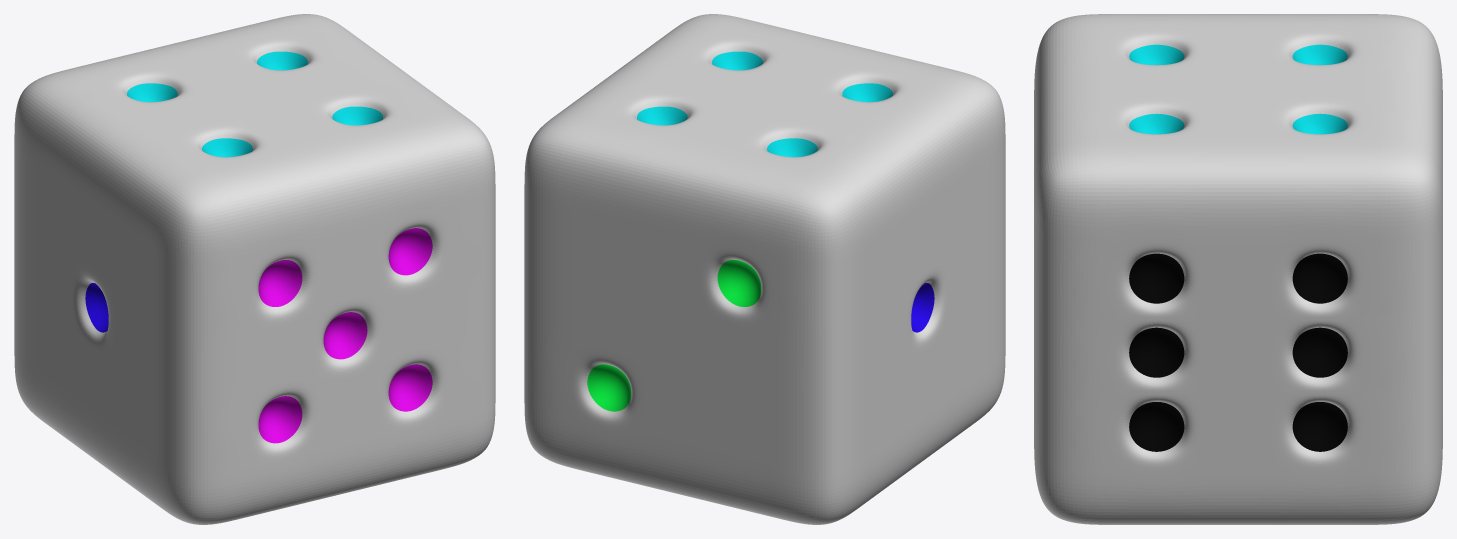
Rendered from dicelegend.FBX.
The picture shows the model from 3 angles, left to right: view 1: azimuth 30°, elevation 25°; view 2: azimuth 150°, elevation 25°; view 3: azimuth 270°, elevation 25°; orthographic projection. The views are drawn at different scales.
Parts seen in each view (by area): view 1: Cube.001; view 2: Cube.001; view 3: Cube.001.
Boxes of the visible parts, x1,y1,x2,y2 form: Cube.001: (14,14,495,524); Cube.001: (524,14,1005,524); Cube.001: (1034,14,1442,524).
Bounding box in the file's own units: 200 × 200 × 200.
